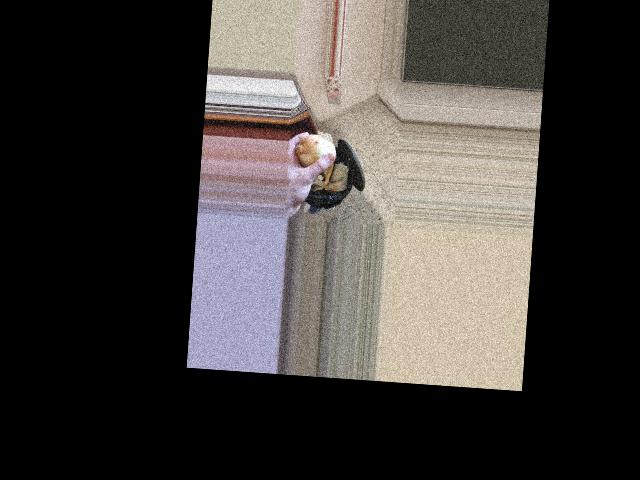onion: (297, 132, 334, 172)
